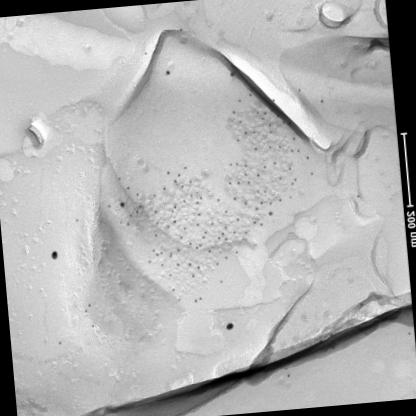6 nm Particle: (223, 208, 230, 216), (170, 286, 177, 294), (127, 212, 134, 219), (196, 264, 203, 271), (176, 296, 183, 303), (216, 197, 223, 204), (258, 200, 264, 206), (252, 219, 258, 225), (258, 222, 264, 228), (152, 232, 158, 238), (200, 234, 206, 240), (224, 236, 230, 242), (234, 249, 240, 255), (147, 259, 153, 265), (224, 254, 230, 260), (160, 262, 166, 268), (214, 261, 220, 267), (167, 272, 173, 278), (288, 121, 294, 127), (277, 144, 283, 150), (296, 148, 302, 154), (272, 160, 278, 166), (287, 166, 293, 172), (172, 178, 178, 184), (152, 192, 158, 198), (198, 195, 204, 201), (288, 194, 294, 199), (135, 209, 140, 215), (277, 197, 283, 202), (152, 209, 158, 214), (254, 207, 260, 212), (155, 220, 160, 226), (172, 219, 178, 224), (236, 216, 241, 222), (182, 226, 187, 232), (204, 230, 209, 236), (244, 230, 250, 235), (216, 235, 221, 241), (151, 247, 156, 253), (176, 246, 181, 252), (188, 262, 193, 268), (191, 273, 196, 279), (232, 110, 238, 115), (282, 120, 287, 126), (242, 130, 248, 135), (235, 138, 241, 143), (292, 136, 298, 141), (253, 146, 259, 151), (289, 148, 294, 154), (183, 165, 188, 171), (228, 162, 234, 167), (244, 163, 249, 169), (116, 176, 122, 181), (262, 164, 267, 170), (176, 173, 182, 178), (256, 172, 261, 178), (188, 178, 193, 184), (126, 185, 131, 191), (162, 186, 167, 192), (228, 180, 233, 186), (236, 180, 241, 186), (182, 199, 188, 204), (194, 200, 199, 206), (268, 201, 273, 206), (194, 245, 199, 250), (155, 252, 160, 257), (248, 92, 253, 97), (275, 113, 280, 118), (268, 130, 273, 135), (268, 145, 273, 150), (263, 189, 268, 194), (233, 196, 238, 201), (174, 204, 178, 210), (197, 212, 201, 218), (166, 224, 172, 228), (196, 221, 200, 227), (198, 242, 202, 248), (169, 250, 173, 256), (238, 98, 242, 104), (166, 170, 170, 176), (136, 192, 140, 198), (289, 182, 295, 186), (243, 202, 248, 206), (126, 221, 130, 226), (211, 221, 215, 226), (223, 225, 228, 229), (232, 230, 236, 235), (179, 235, 183, 240), (160, 250, 164, 255), (176, 262, 180, 267), (270, 107, 274, 112), (260, 116, 265, 120), (268, 122, 272, 127), (252, 130, 257, 134), (236, 162, 240, 167), (244, 172, 249, 176), (278, 176, 283, 180), (248, 180, 252, 185), (294, 177, 298, 182), (190, 193, 194, 198), (256, 189, 260, 194), (138, 204, 142, 209), (221, 232, 225, 236), (169, 254, 173, 258), (256, 110, 260, 114), (263, 111, 267, 115), (239, 120, 243, 124), (180, 184, 184, 188), (188, 242, 193, 245), (171, 209, 174, 213), (207, 249, 211, 252), (119, 221, 122, 224)
